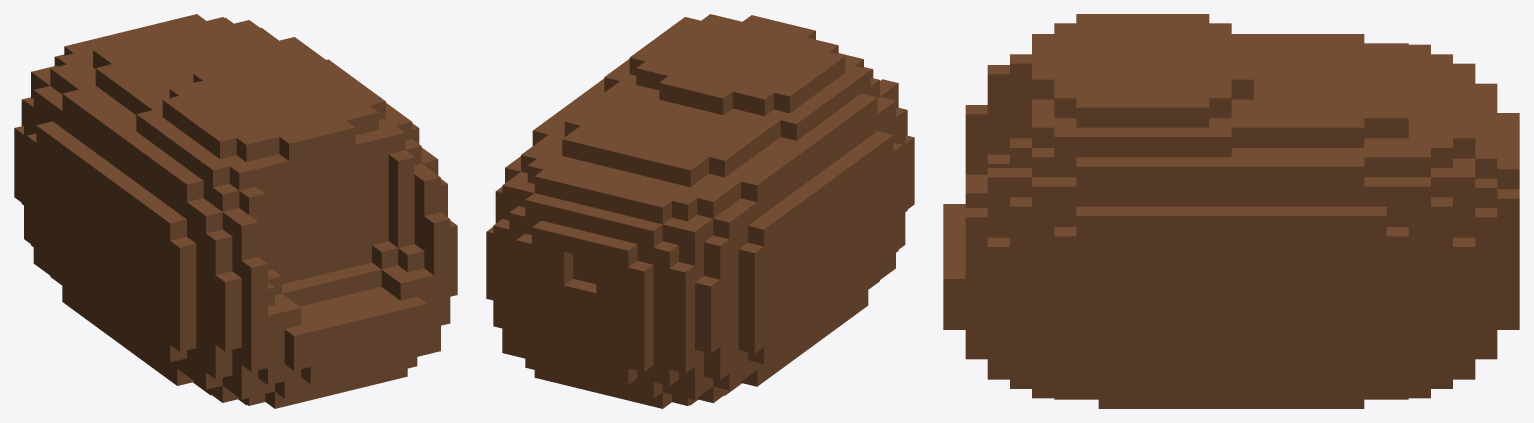
File: bear__body.glb
3 views of the same model, side by side, from view 1: azimuth 30°, elevation 25°; view 2: azimuth 150°, elevation 25°; view 3: azimuth 270°, elevation 25° (orthographic). The views are drawn at different scales.
Visible parts, largest first — view 1: bear__body; view 2: bear__body; view 3: bear__body.
Part boxes in pixels (x1,y1,x2,y2): bear__body: [14, 14, 457, 408]; bear__body: [486, 14, 914, 408]; bear__body: [943, 14, 1519, 408].
Size of the model in its own units: 1.6 by 1.5 by 2.6.
Materials: 1 (1 with a texture image).
